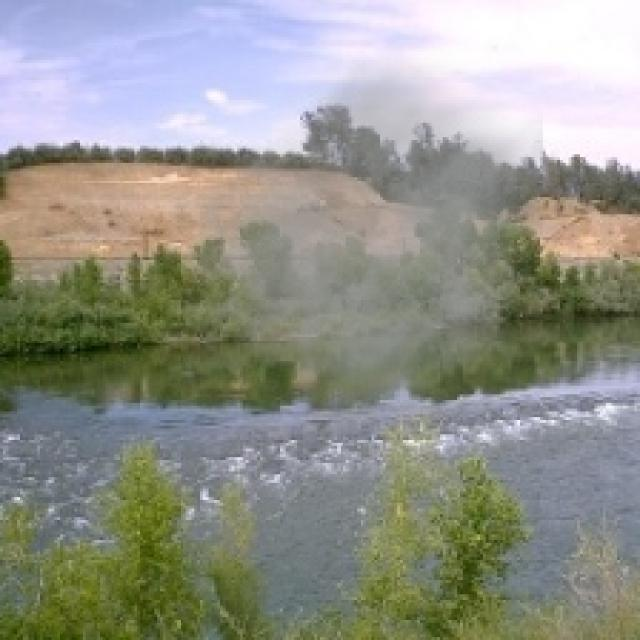smoke: (151, 43, 543, 446)
